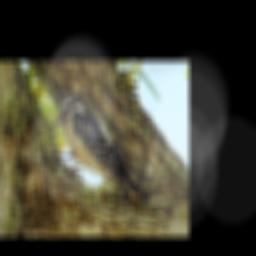Woodpecker: (48, 94, 147, 203)
